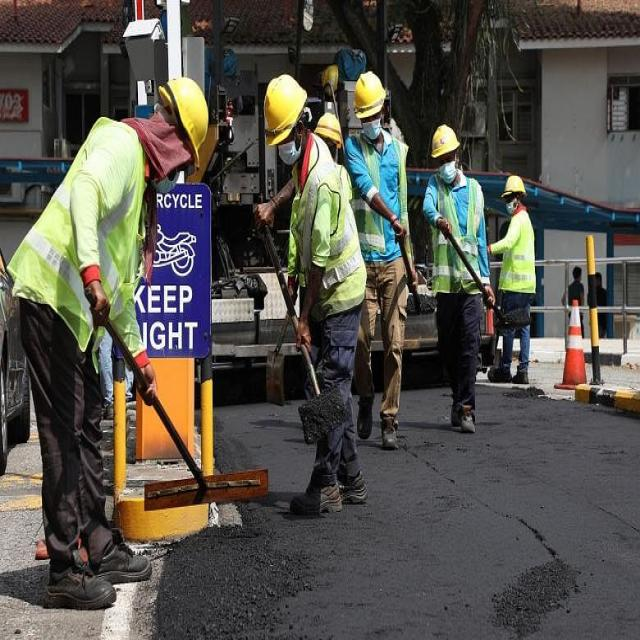helmet: (158, 74, 212, 168), (261, 71, 308, 148), (350, 68, 388, 123), (312, 108, 346, 149), (428, 119, 461, 160), (501, 171, 528, 202)
vest: (9, 114, 145, 343), (284, 133, 367, 311), (349, 127, 414, 256), (428, 171, 487, 293), (497, 209, 539, 294)
